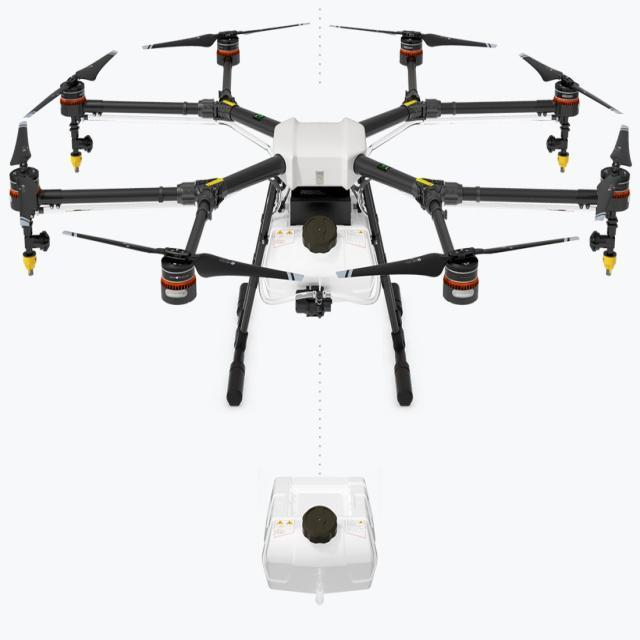drones: (5, 10, 640, 442)
